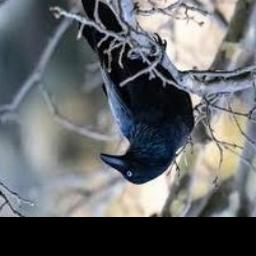Crow: (78, 0, 195, 185)
